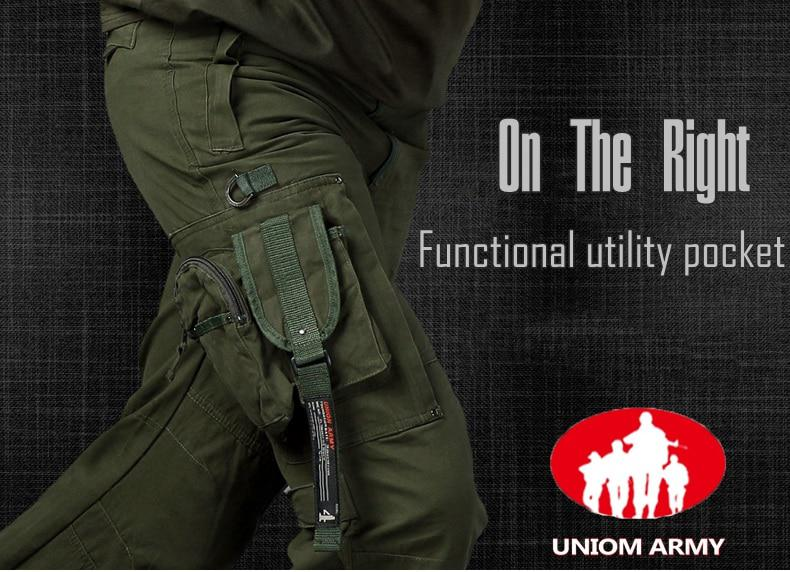pants: (9, 16, 474, 572)
